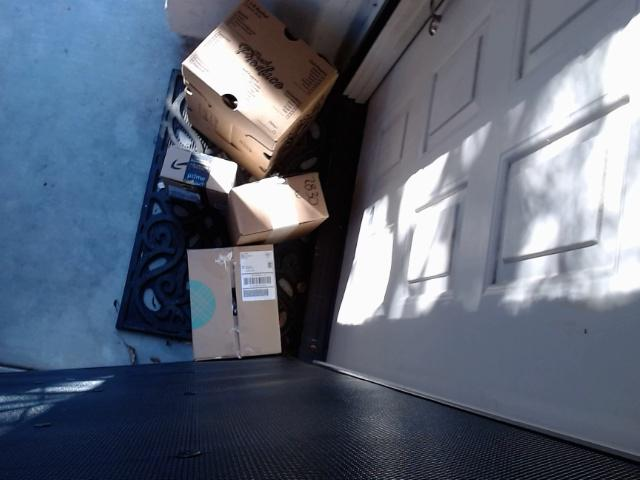box: (181, 0, 338, 180), (186, 243, 282, 361), (228, 172, 329, 245), (158, 145, 237, 212)
